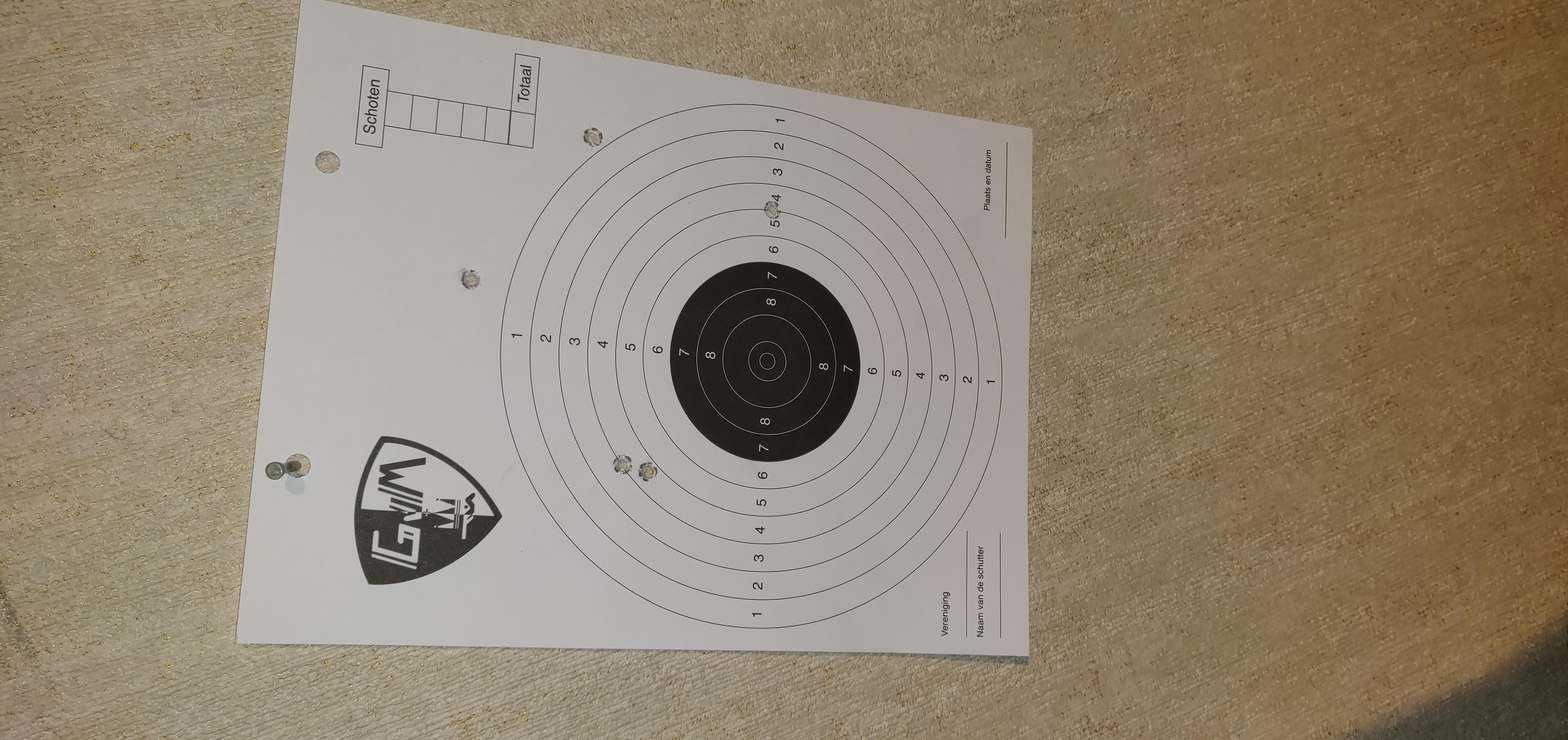hole: (951, 216, 1006, 229), (1253, 274, 1302, 285), (547, 301, 594, 311), (559, 289, 606, 298), (1106, 361, 1146, 368)
